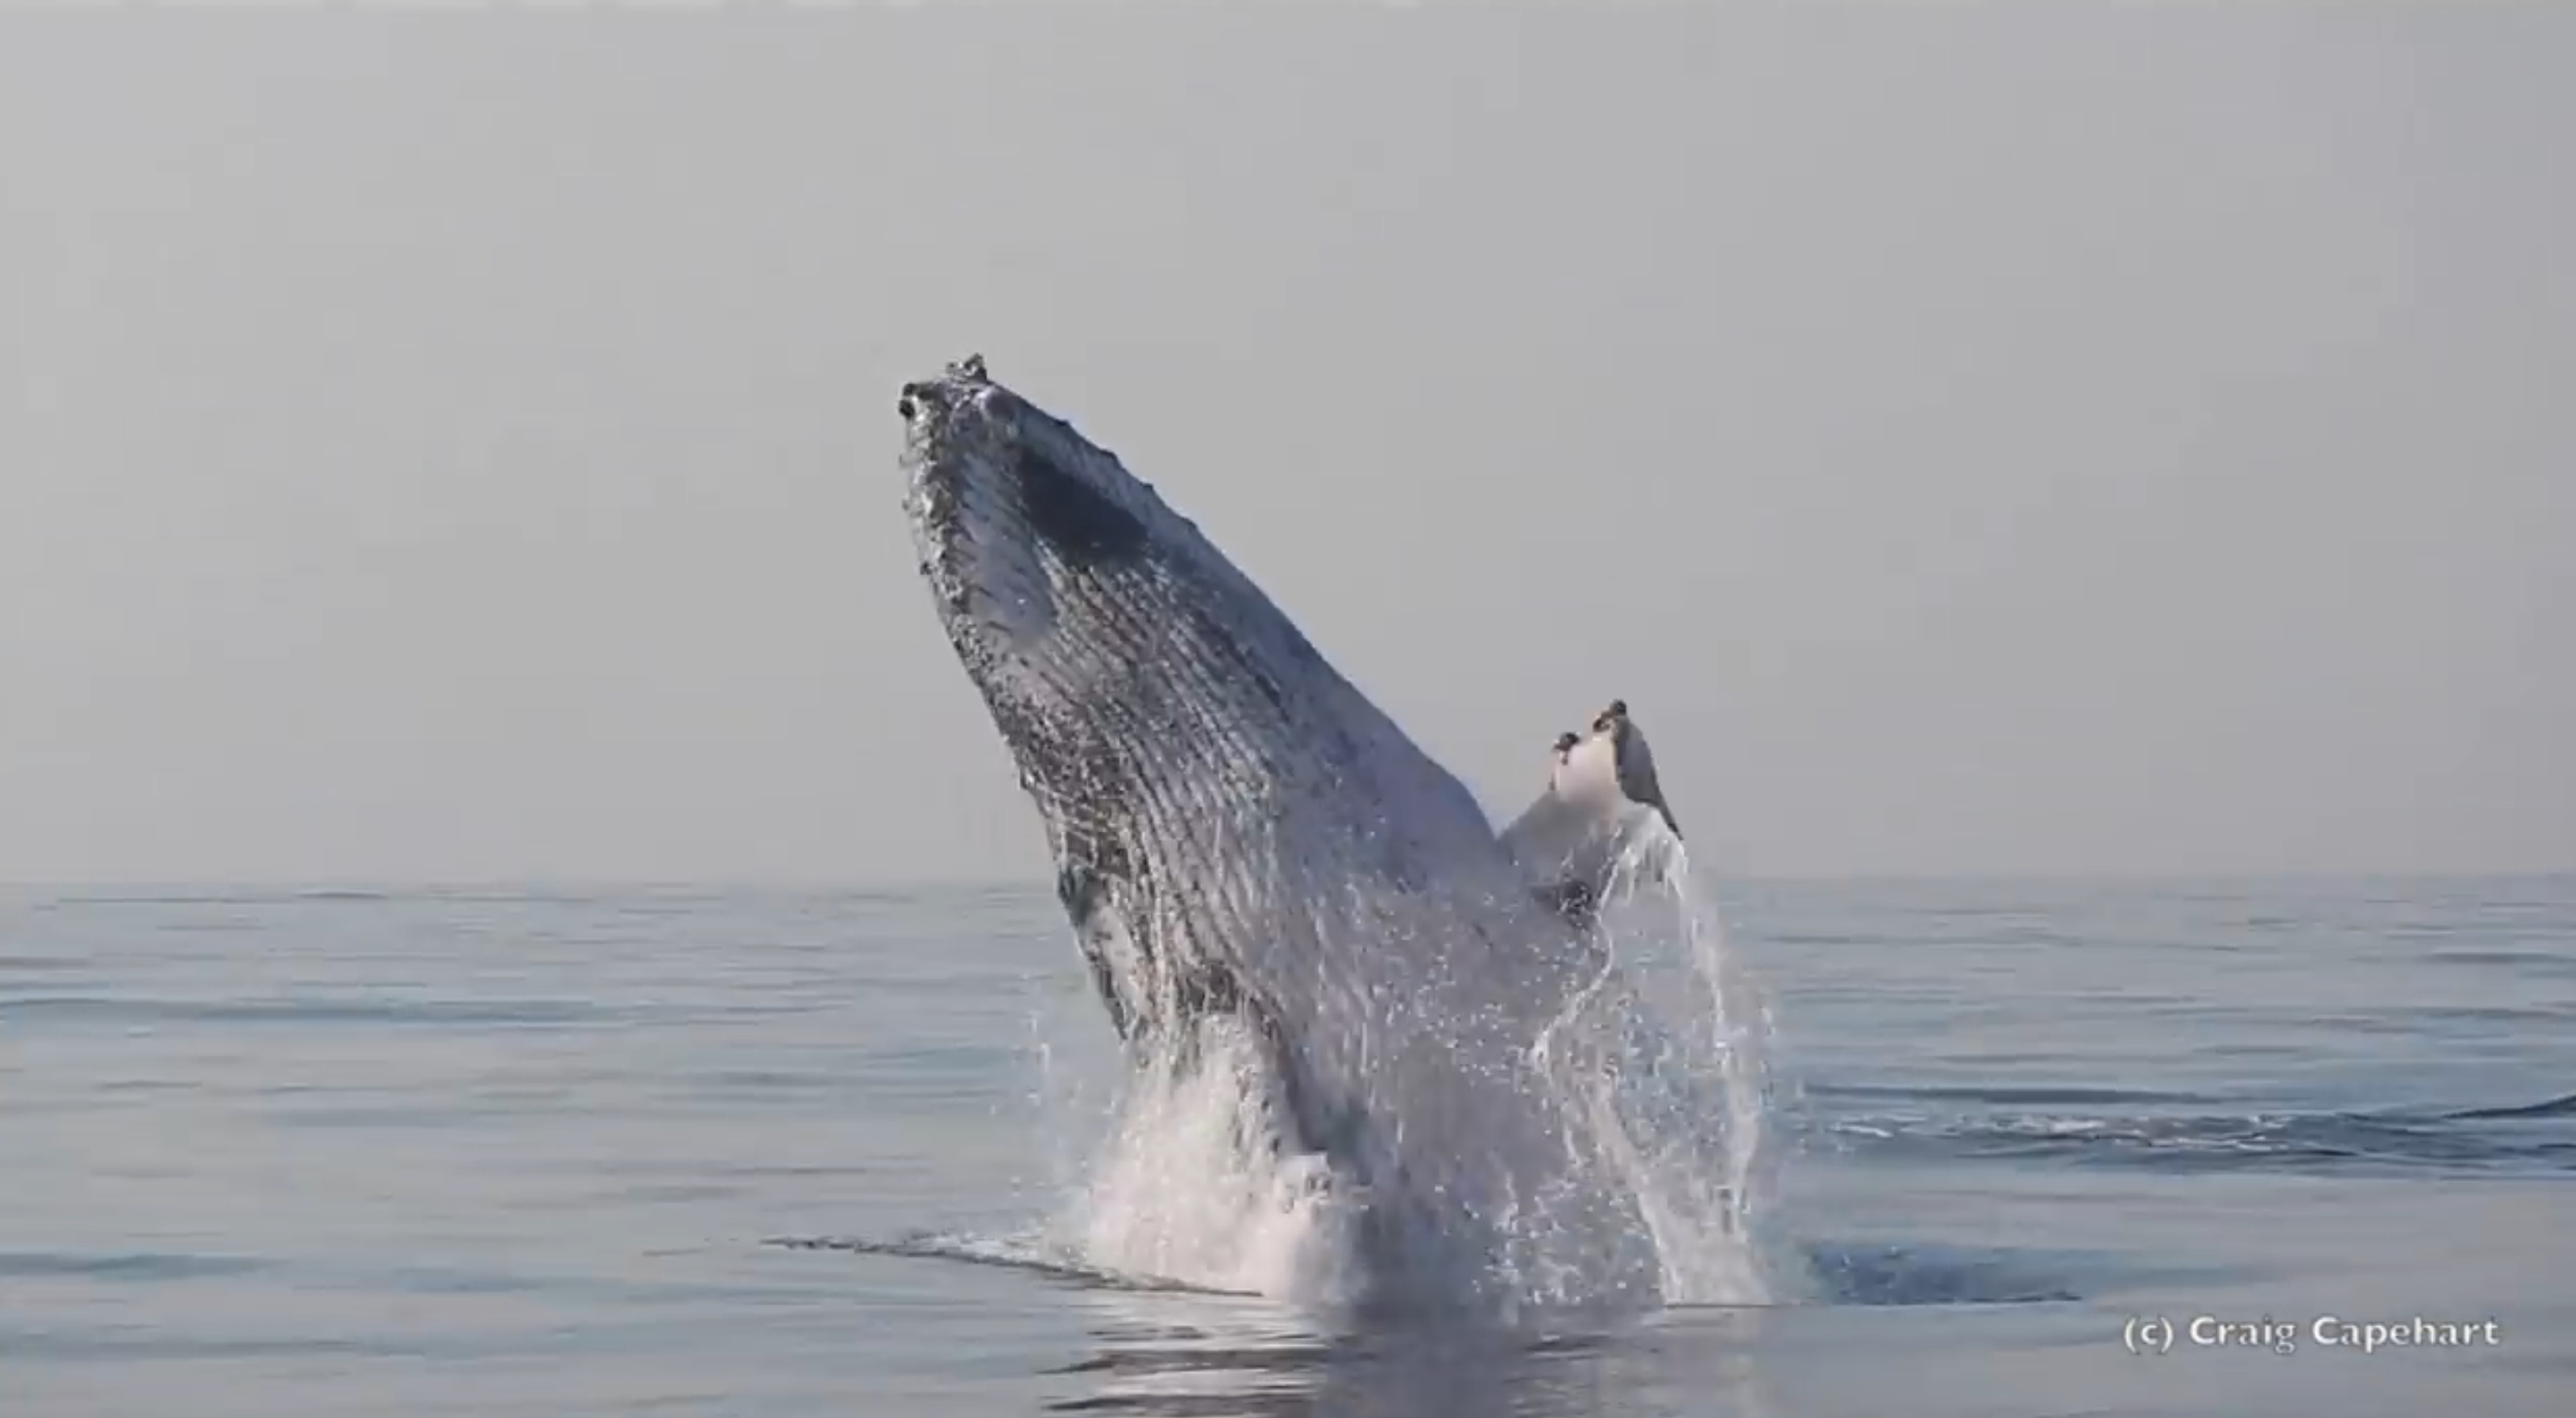humpback: (894, 358, 1656, 1311)
